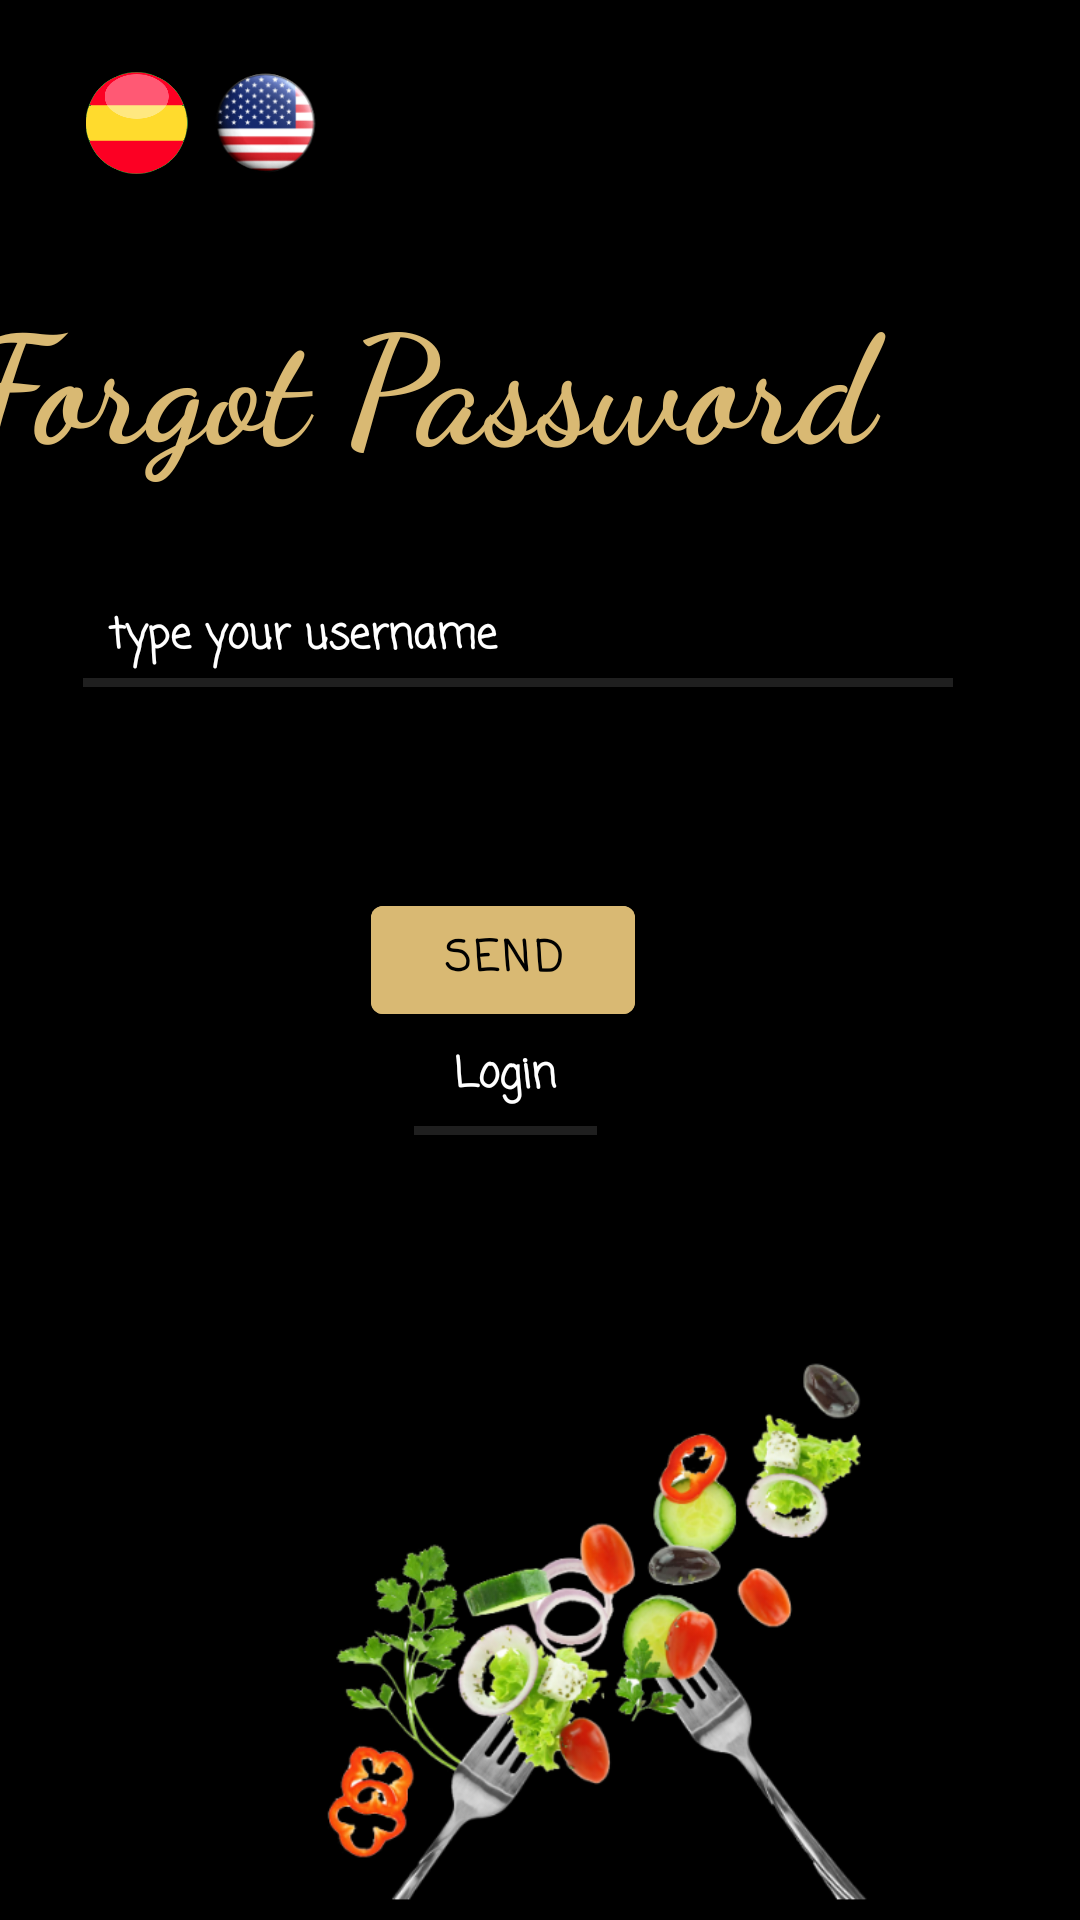

Screen size 1080×1920. Icon name, then its center in pixels as point (x, y):
english: point (266, 122)
spanish: point (137, 123)
